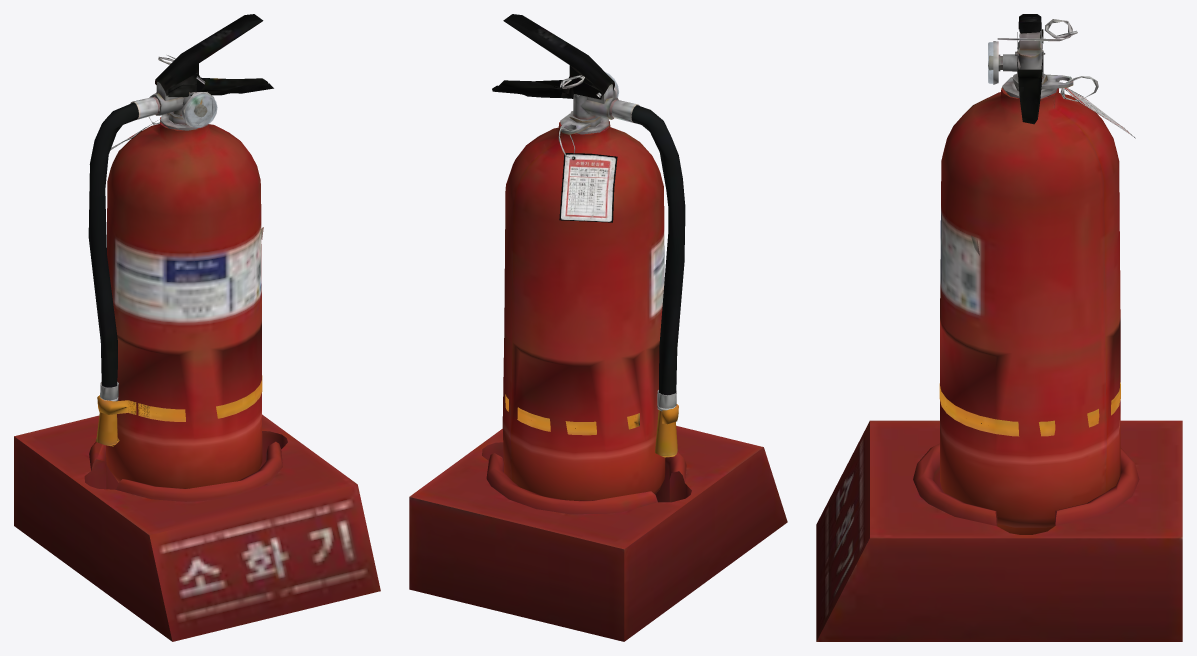
The model's file is extinguisher.glb.
3 renders of one model, left to right at view 1: azimuth 30°, elevation 25°; view 2: azimuth 150°, elevation 25°; view 3: azimuth 270°, elevation 25°, orthographic. The views are drawn at different scales.
Visible parts, largest first — view 1: korean_fire_extinguisher_01; view 2: korean_fire_extinguisher_01; view 3: korean_fire_extinguisher_01.
Boxes of the visible parts, bbox=[...] form: korean_fire_extinguisher_01: bbox=[14, 14, 380, 641]; korean_fire_extinguisher_01: bbox=[409, 14, 787, 641]; korean_fire_extinguisher_01: bbox=[816, 14, 1182, 641].
Size of the model in its own units: 0.279 by 0.6581 by 0.3675.
3 materials, 3 textured.
